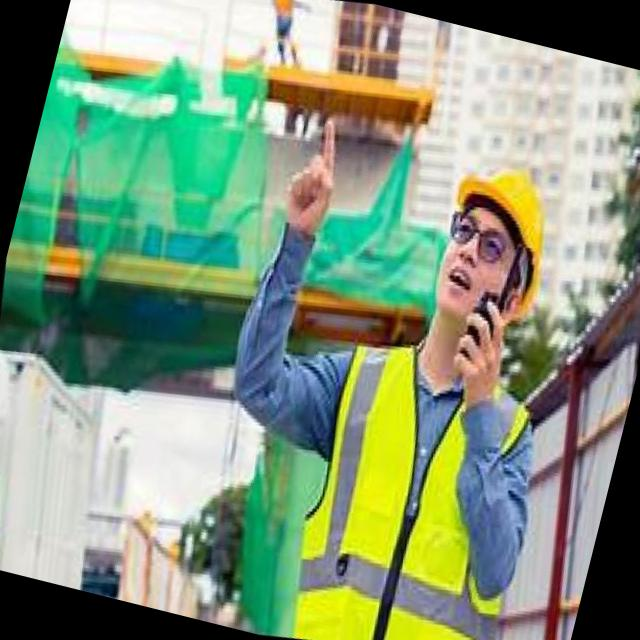not-gloved: (431, 280, 544, 420), (270, 97, 371, 247)
